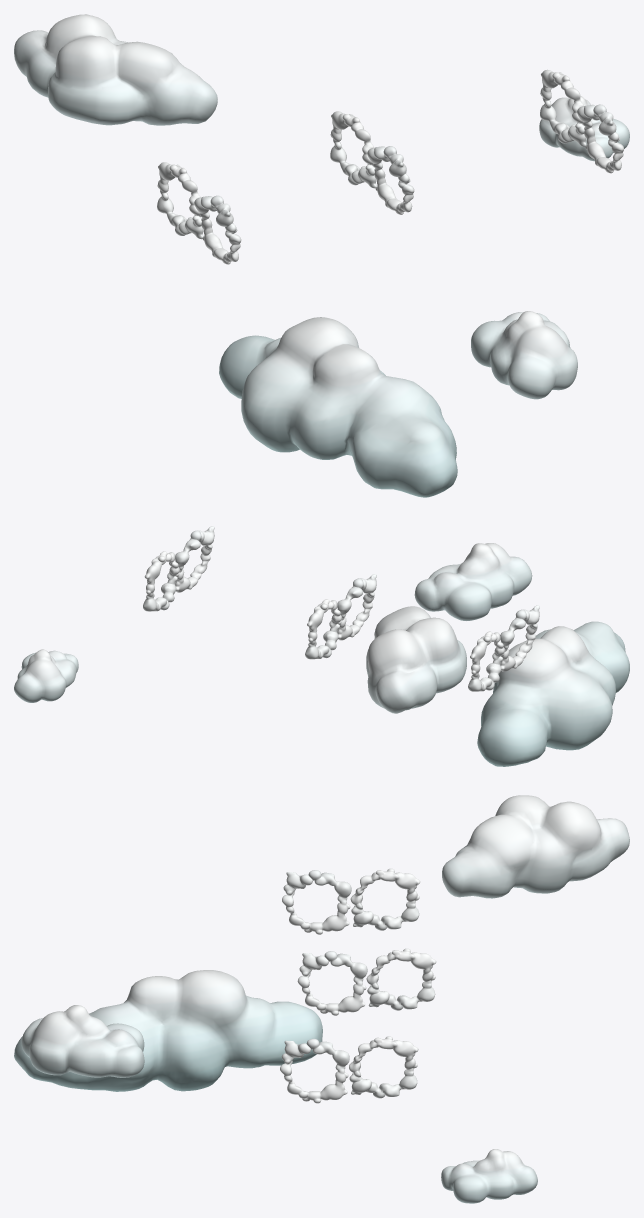
Rendered from cloud.fbx.
The picture shows the model from 3 angles, top to bottom: view 1: azimuth 30°, elevation 25°; view 2: azimuth 150°, elevation 25°; view 3: azimuth 270°, elevation 25°; orthographic projection. The views are drawn at different scales.
Visible parts, largest first — view 1: pasted__cloud1_Mesh.158, pasted__cloud2_Mesh.159, pasted__cloud3_Mesh.160, pasted__cloud3.001_Mesh.191, group2_pCube2.002_Mesh.163, group2_pCube2_Mesh.161, group2_pCube2.004_Mesh.165, group2_pCube2.001_Mesh.162, group2_pCube2.005_Mesh.166, group2_pCube2.003_Mesh.164; view 2: pasted__cloud1_Mesh.158, pasted__cloud2_Mesh.159, pasted__cloud3_Mesh.160, pasted__cloud3.001_Mesh.191, group2_pCube2.004_Mesh.165, group2_pCube2_Mesh.161, group2_pCube2.002_Mesh.163, group2_pCube2.001_Mesh.162, group2_pCube2.003_Mesh.164, group2_pCube2.005_Mesh.166; view 3: pasted__cloud1_Mesh.158, pasted__cloud2_Mesh.159, pasted__cloud3_Mesh.160, pasted__cloud3.001_Mesh.191, group2_pCube2.003_Mesh.164, group2_pCube2.005_Mesh.166, group2_pCube2.001_Mesh.162, group2_pCube2.002_Mesh.163, group2_pCube2_Mesh.161, group2_pCube2.004_Mesh.165.
Part boxes in pixels (x1,y1,x2,y2): pasted__cloud1_Mesh.158: (219,317,457,497); pasted__cloud2_Mesh.159: (14,14,217,125); pasted__cloud3_Mesh.160: (471,311,577,399); pasted__cloud3.001_Mesh.191: (539,96,629,161); group2_pCube2.002_Mesh.163: (330,111,376,188); group2_pCube2_Mesh.161: (157,162,203,239); group2_pCube2.004_Mesh.165: (540,69,586,146); group2_pCube2.001_Mesh.162: (194,195,241,264); group2_pCube2.005_Mesh.166: (577,104,623,173); group2_pCube2.003_Mesh.164: (367,146,414,214); pasted__cloud1_Mesh.158: (477,621,629,766); pasted__cloud2_Mesh.159: (366,606,466,713); pasted__cloud3_Mesh.160: (414,543,532,620); pasted__cloud3.001_Mesh.191: (14,649,78,702); group2_pCube2.004_Mesh.165: (143,551,179,611); group2_pCube2_Mesh.161: (468,631,504,691); group2_pCube2.002_Mesh.163: (305,599,342,659); group2_pCube2.001_Mesh.162: (500,605,539,671); group2_pCube2.003_Mesh.164: (337,574,376,640); group2_pCube2.005_Mesh.166: (175,526,214,592); pasted__cloud1_Mesh.158: (14,970,322,1091); pasted__cloud2_Mesh.159: (442,795,629,898); pasted__cloud3_Mesh.160: (21,1005,144,1077); pasted__cloud3.001_Mesh.191: (441,1149,537,1203); group2_pCube2.003_Mesh.164: (297,951,367,1015); group2_pCube2.005_Mesh.166: (280,1038,349,1103); group2_pCube2.001_Mesh.162: (282,870,351,934); group2_pCube2.002_Mesh.163: (366,948,436,1010); group2_pCube2_Mesh.161: (350,868,420,930); group2_pCube2.004_Mesh.165: (349,1036,418,1098).
Bounding box in the file's own units: 4737 × 2382 × 5172.
